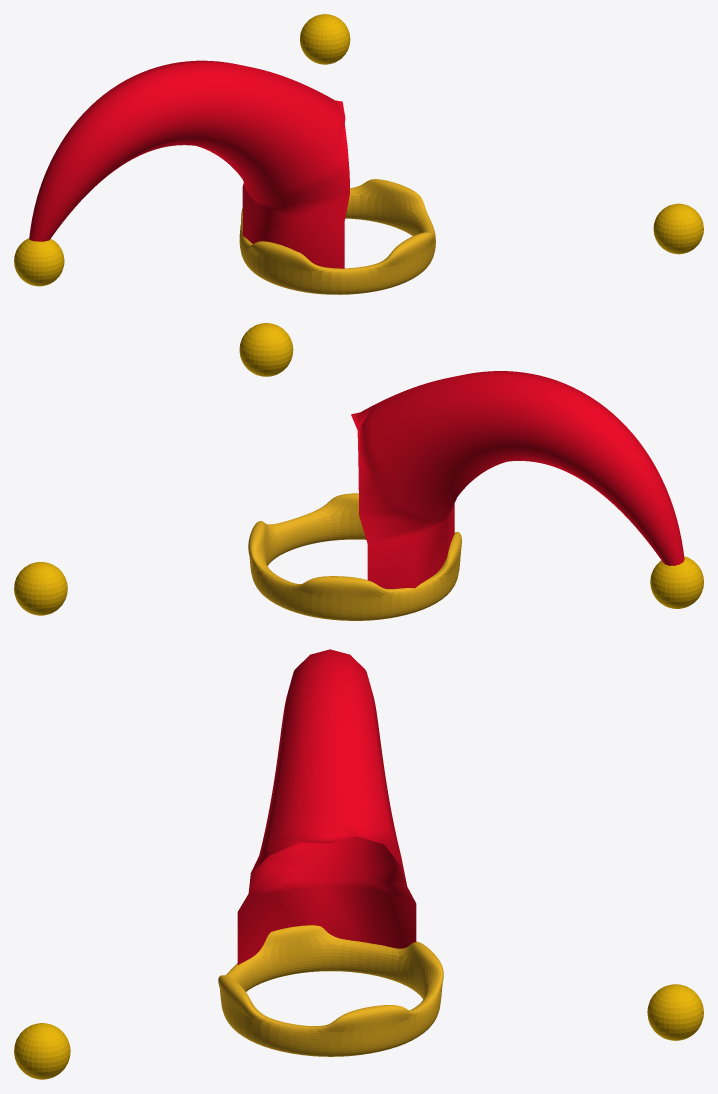
Rendered from hat.dae.
3 views of the same model, one above another, from view 1: azimuth 30°, elevation 25°; view 2: azimuth 150°, elevation 25°; view 3: azimuth 270°, elevation 25° (orthographic). The views are drawn at different scales.
Visible parts, largest first — view 1: NurbsPath, Cylinder, Sphere.001, Sphere.002, Sphere; view 2: NurbsPath, Cylinder, Sphere.001, Sphere.002, Sphere; view 3: NurbsPath, Cylinder, Sphere.002, Sphere.001.
Part boxes in pixels (x1=…): NurbsPath: x1=29, y1=60, x2=349, y2=268; Cylinder: x1=239, y1=179, x2=435, y2=294; Sphere.001: x1=300, y1=14, x2=350, y2=64; Sphere.002: x1=653, y1=203, x2=703, y2=254; Sphere: x1=14, y1=238, x2=64, y2=286; NurbsPath: x1=351, y1=371, x2=684, y2=588; Cylinder: x1=248, y1=493, x2=461, y2=620; Sphere.001: x1=14, y1=562, x2=67, y2=615; Sphere.002: x1=239, y1=323, x2=293, y2=376; Sphere: x1=650, y1=556, x2=703, y2=608; NurbsPath: x1=237, y1=649, x2=416, y2=964; Cylinder: x1=218, y1=925, x2=443, y2=1056; Sphere.002: x1=14, y1=1023, x2=70, y2=1079; Sphere.001: x1=647, y1=984, x2=703, y2=1040.
Size of the model in its own units: 859 by 338 by 824.
